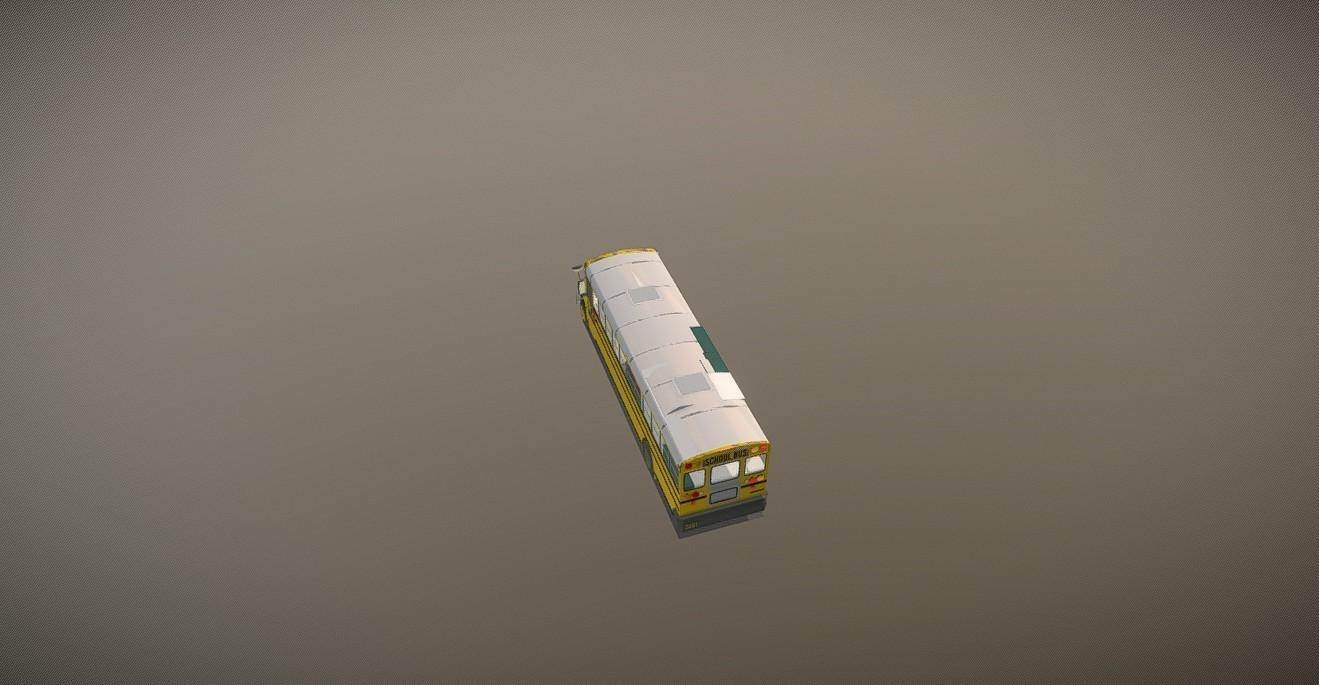Bus: (570, 245, 772, 539)
